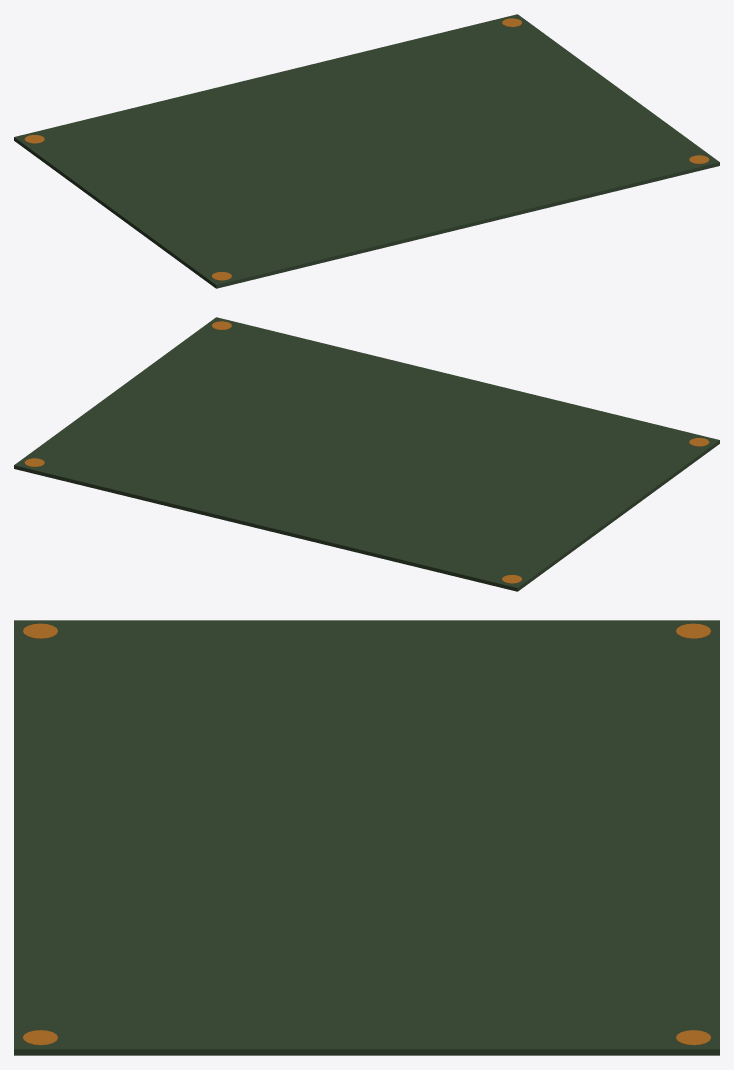
The model's file is 077_L101_PCB_FR4_Core.fbx.
3 renders of one model, top to bottom at view 1: azimuth 30°, elevation 25°; view 2: azimuth 150°, elevation 25°; view 3: azimuth 270°, elevation 25°, orthographic. The views are drawn at different scales.
Parts seen in each view (by area): view 1: FR4_6Layer_Dielectric; view 2: FR4_6Layer_Dielectric; view 3: FR4_6Layer_Dielectric.
Boxes of the visible parts, <box> form: FR4_6Layer_Dielectric: <box>14,14,719,288</box>; FR4_6Layer_Dielectric: <box>14,317,719,591</box>; FR4_6Layer_Dielectric: <box>14,620,719,1055</box>.
Bounding box in the file's own units: 23 × 0.173 × 16.
